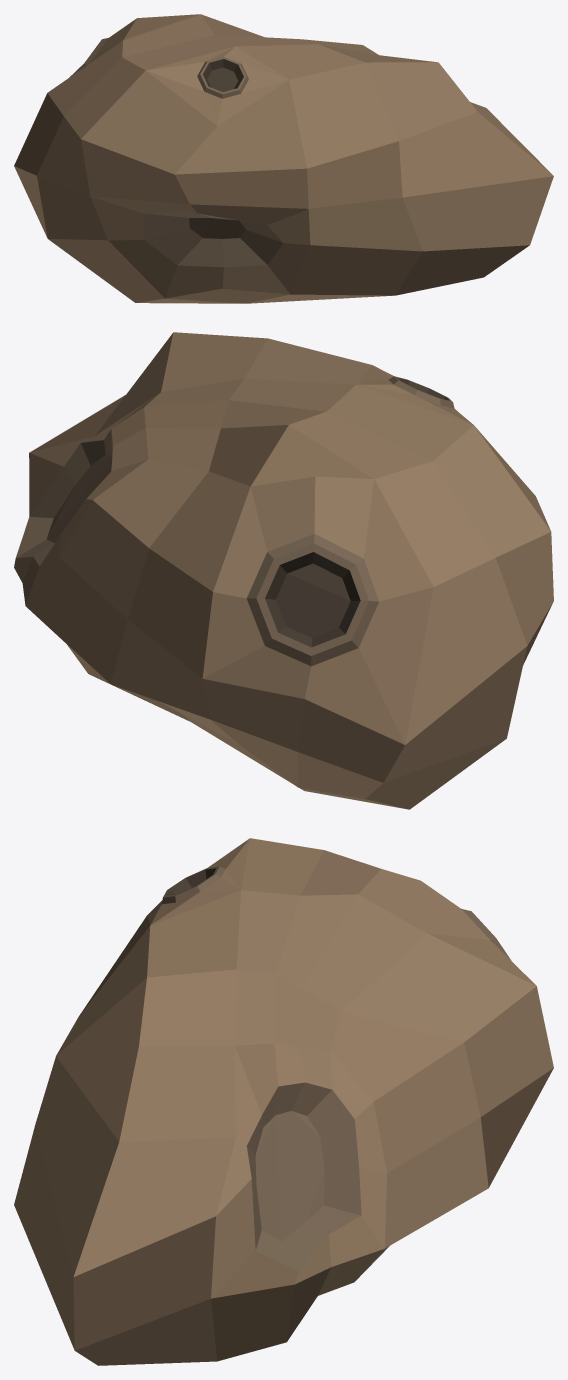
The model's file is Aestroid1.FBX.
The picture shows the model from 3 angles, top to bottom: view 1: azimuth 30°, elevation 25°; view 2: azimuth 150°, elevation 25°; view 3: azimuth 270°, elevation 25°; orthographic projection. The views are drawn at different scales.
Parts seen in each view (by area): view 1: PlayerRock; view 2: PlayerRock; view 3: PlayerRock.
Boxes of the visible parts, box(x1,y1,x2,y2) form: PlayerRock: box(14, 14, 553, 303); PlayerRock: box(14, 332, 553, 809); PlayerRock: box(14, 838, 553, 1365).
Bounding box in the file's own units: 0.6506 × 0.4041 × 0.5169.
